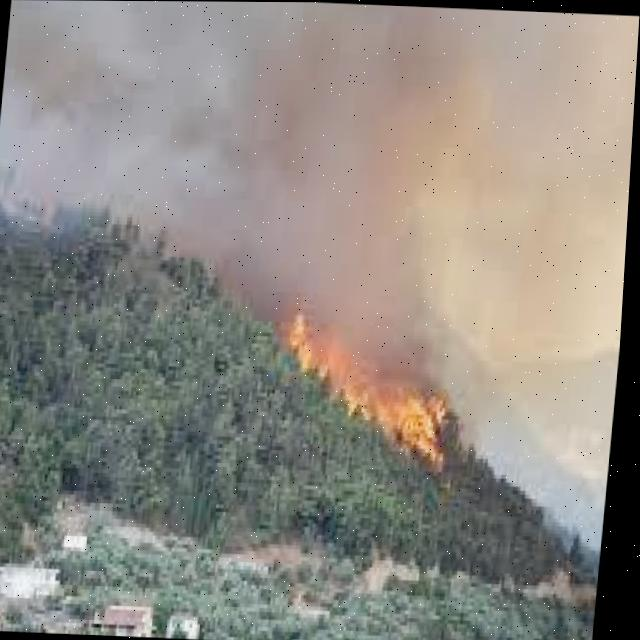fire: (272, 298, 461, 484)
smoke: (0, 0, 639, 233), (246, 224, 629, 348)
